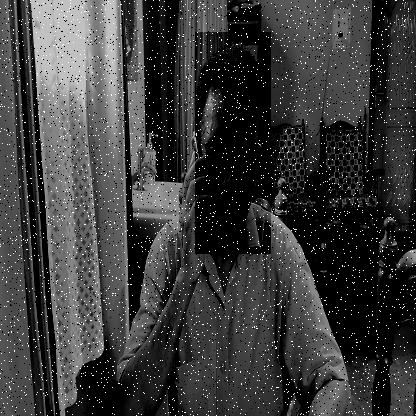Normal: (195, 32, 271, 254)
